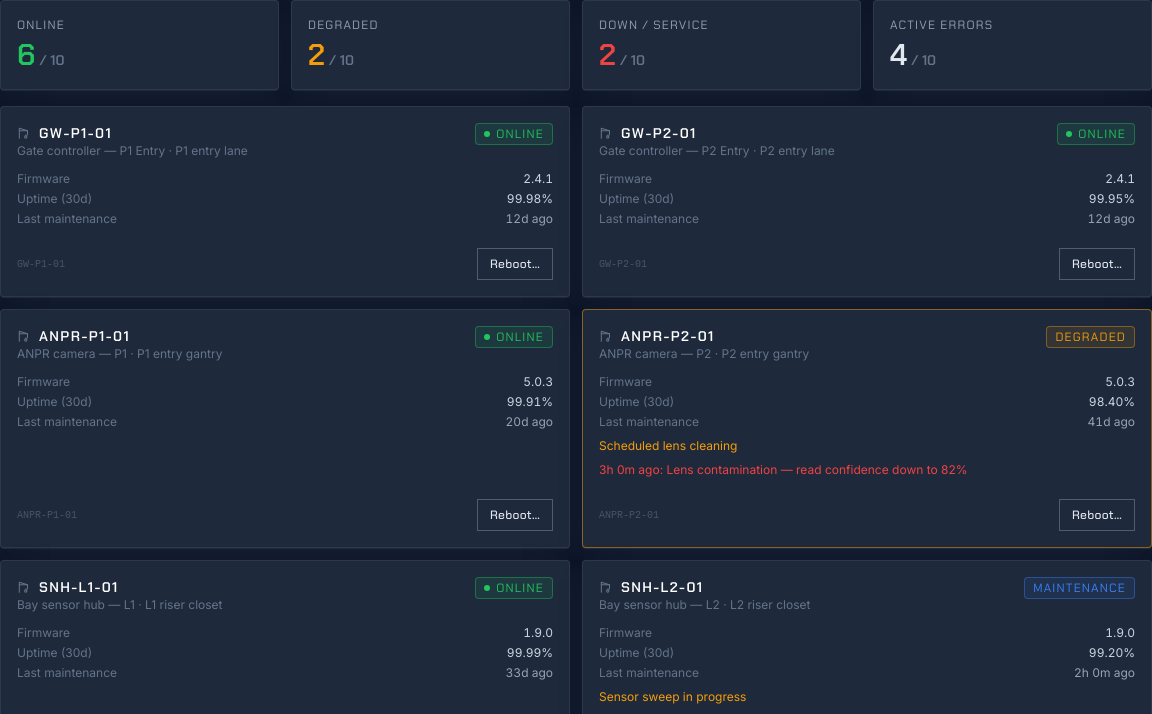
it: HardwareBoard › reboot dialog shows the exact command; confirming takes the device down
The image size is (1152, 714).
Click the button "Reboot…" below "99.98". click: (515, 264)
box: [477,248,553,280]
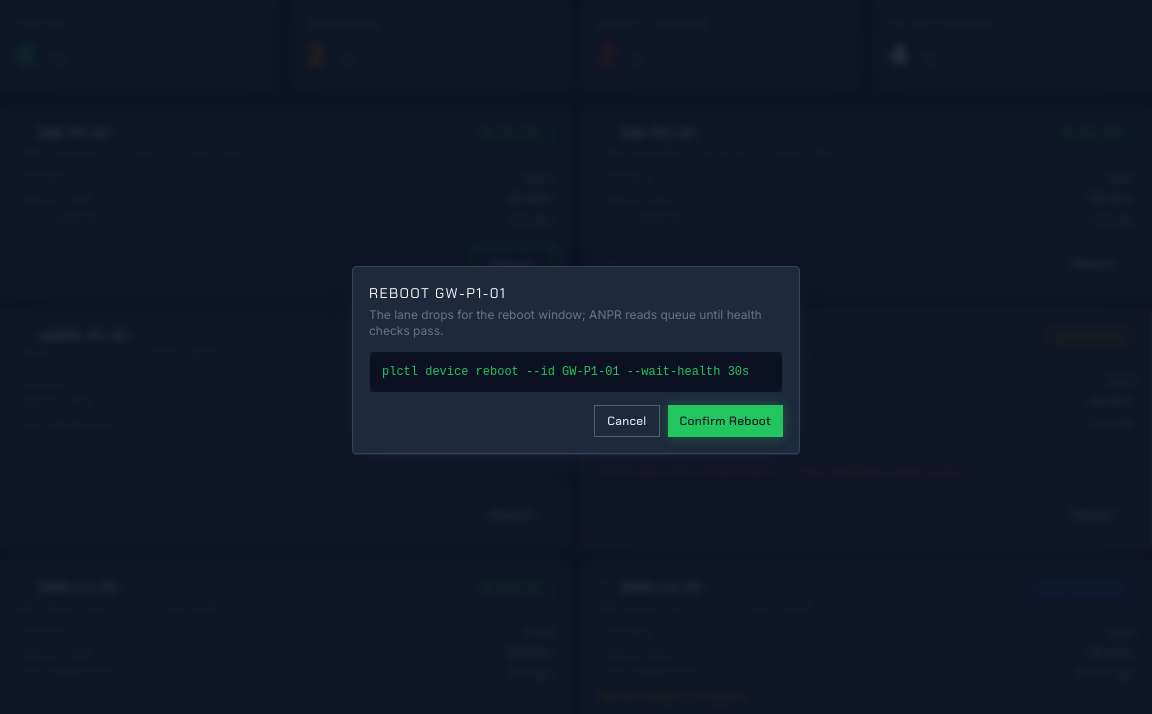
expect the text "plctl device reboot --id GW-P1-01 --wait-health 30s" is shown: met, box [369,351,783,393]
Click the button "Confirm Reboot". click: (725, 421)
box: [668,405,783,437]
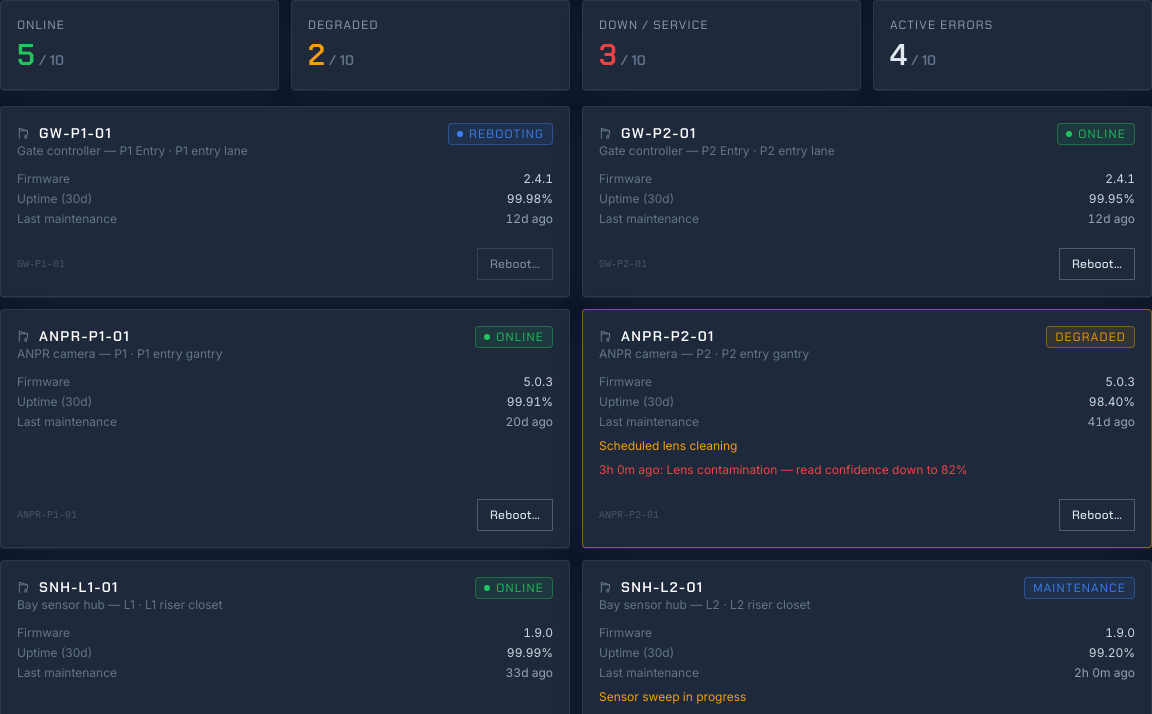
expect the text "rebooting" is shown: met, box [448,123,553,145]
